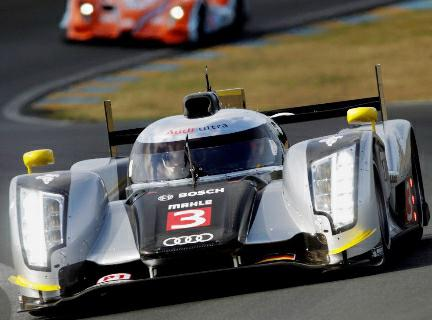奥迪-R18: (6, 74, 432, 304)
